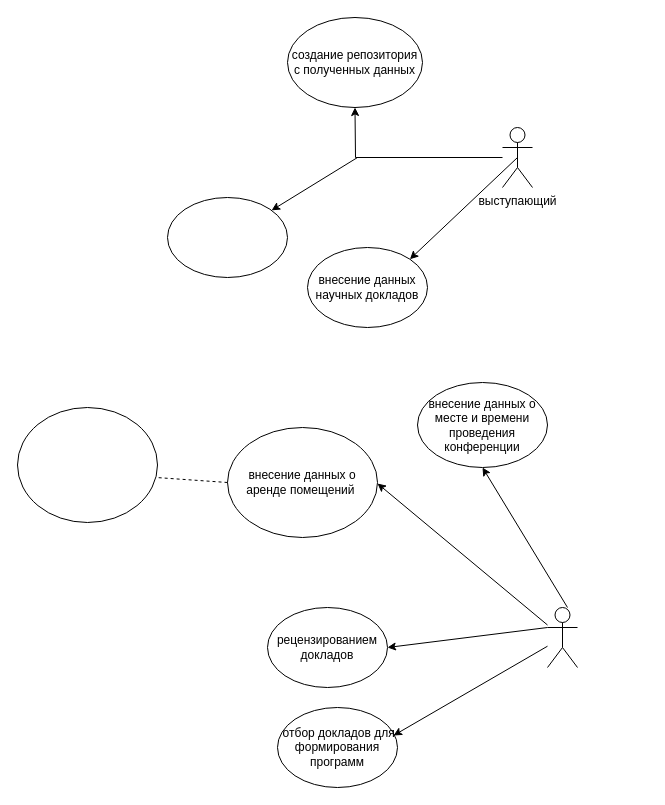
Some shapes in this 665 by 805 pixel diagram are drawn without their labels. The centre of each missing label's shape, as x and y in pixels:
организационный комитет: [562,637]
оснащение лекционных залов: [87,464]
редактирование данных: [227,237]
